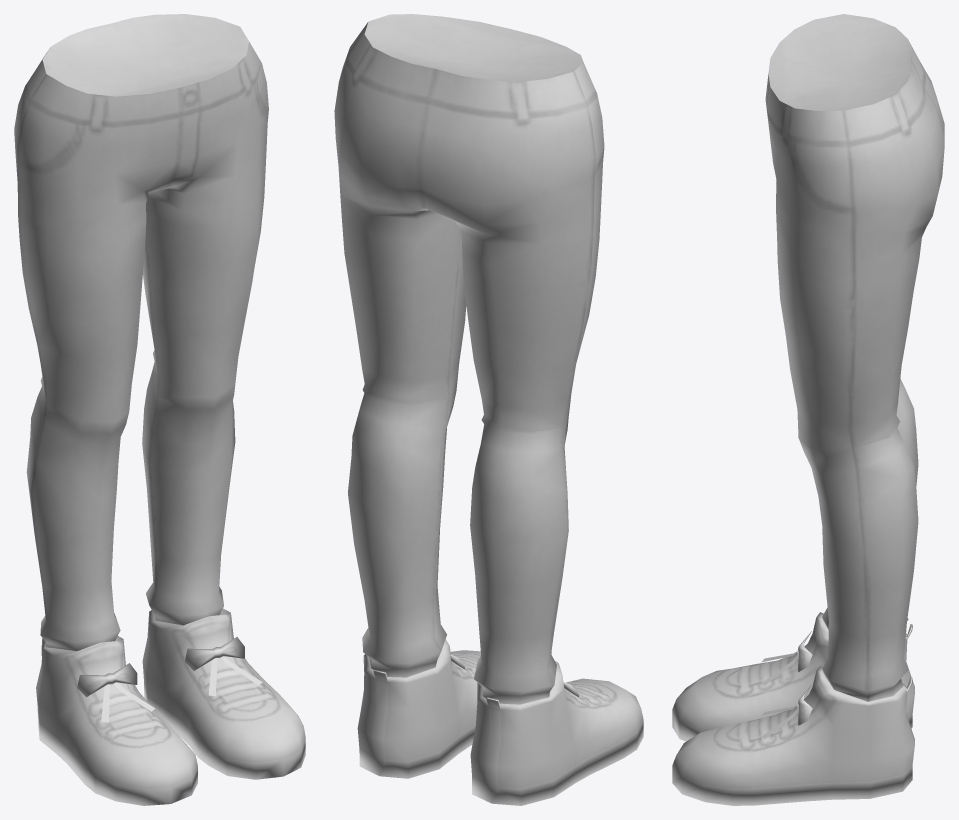
File: tr0790_00_lwb02.gltf
3 views of the same model, side by side, from view 1: azimuth 30°, elevation 25°; view 2: azimuth 150°, elevation 25°; view 3: azimuth 270°, elevation 25° (orthographic). The views are drawn at different scales.
Visible parts, largest first — view 1: lwb02_lowerbody_mesh_shape:lowerbody02, lwb02_shoes_mesh_shape:lowerbody02; view 2: lwb02_lowerbody_mesh_shape:lowerbody02, lwb02_shoes_mesh_shape:lowerbody02; view 3: lwb02_lowerbody_mesh_shape:lowerbody02, lwb02_shoes_mesh_shape:lowerbody02.
Part boxes in pixels (bbox=[...]): lwb02_lowerbody_mesh_shape:lowerbody02: bbox=[14, 14, 268, 650]; lwb02_shoes_mesh_shape:lowerbody02: bbox=[36, 608, 305, 805]; lwb02_lowerbody_mesh_shape:lowerbody02: bbox=[334, 14, 604, 704]; lwb02_shoes_mesh_shape:lowerbody02: bbox=[357, 639, 643, 805]; lwb02_lowerbody_mesh_shape:lowerbody02: bbox=[765, 14, 944, 701]; lwb02_shoes_mesh_shape:lowerbody02: bbox=[672, 612, 914, 805].
Size of what is drawn, in the model's own units: 0.3504 by 0.9385 by 0.3334.
1 material, 1 textured.
